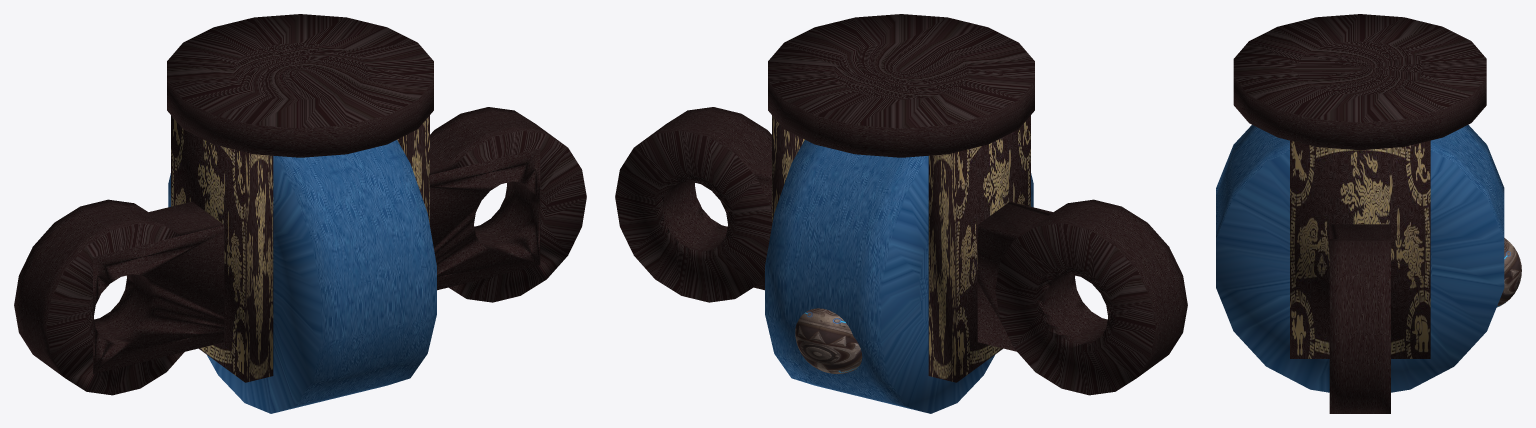
File: CabezaGuardian.obj
3 renders of one model, left to right at view 1: azimuth 30°, elevation 25°; view 2: azimuth 150°, elevation 25°; view 3: azimuth 270°, elevation 25°, orthographic. The views are drawn at different scales.
Parts seen in each view (by area): view 1: Cylinder001, Cylinder002, Cylinder005, Cylinder004, Box004, Box003; view 2: Cylinder001, Cylinder002, Cylinder005, Cylinder004, Box004, GeoSphere002, Box003; view 3: Cylinder001, Cylinder005, Box003, Cylinder004, GeoSphere002.
Part boxes in pixels (bbox=[...]): Cylinder001: bbox=[168, 140, 436, 413]; Cylinder002: bbox=[14, 199, 224, 395]; Cylinder005: bbox=[167, 14, 433, 157]; Cylinder004: bbox=[430, 107, 586, 302]; Box004: bbox=[171, 115, 273, 382]; Box003: bbox=[397, 115, 429, 224]; Cylinder001: bbox=[765, 140, 1033, 413]; Cylinder002: bbox=[977, 199, 1187, 395]; Cylinder005: bbox=[768, 14, 1034, 157]; Cylinder004: bbox=[615, 107, 771, 302]; Box004: bbox=[928, 115, 1030, 382]; GeoSphere002: bbox=[795, 308, 862, 373]; Box003: bbox=[772, 115, 804, 224]; Cylinder001: bbox=[1216, 124, 1504, 392]; Cylinder005: bbox=[1233, 14, 1486, 150]; Box003: bbox=[1290, 140, 1430, 358]; Cylinder004: bbox=[1329, 224, 1390, 413]; GeoSphere002: bbox=[1496, 238, 1521, 307].
Size of the model in its own units: 9.67 by 5.44 by 5.
